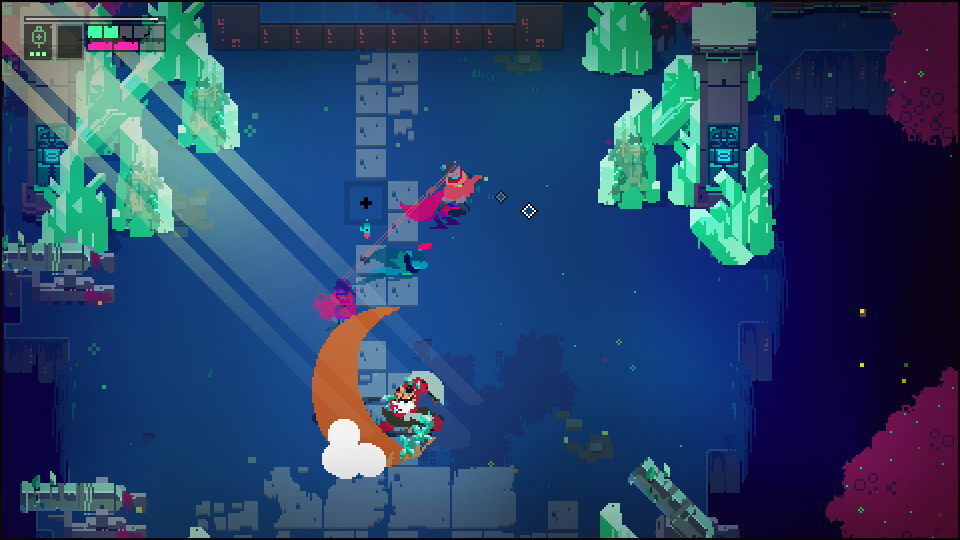hanged_man: (342, 360, 445, 463)
player: (440, 154, 482, 215)
